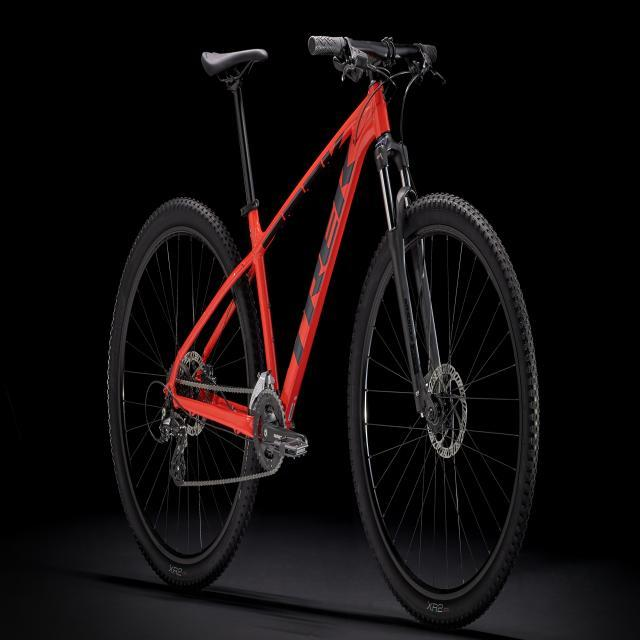bike: (106, 33, 540, 630)
